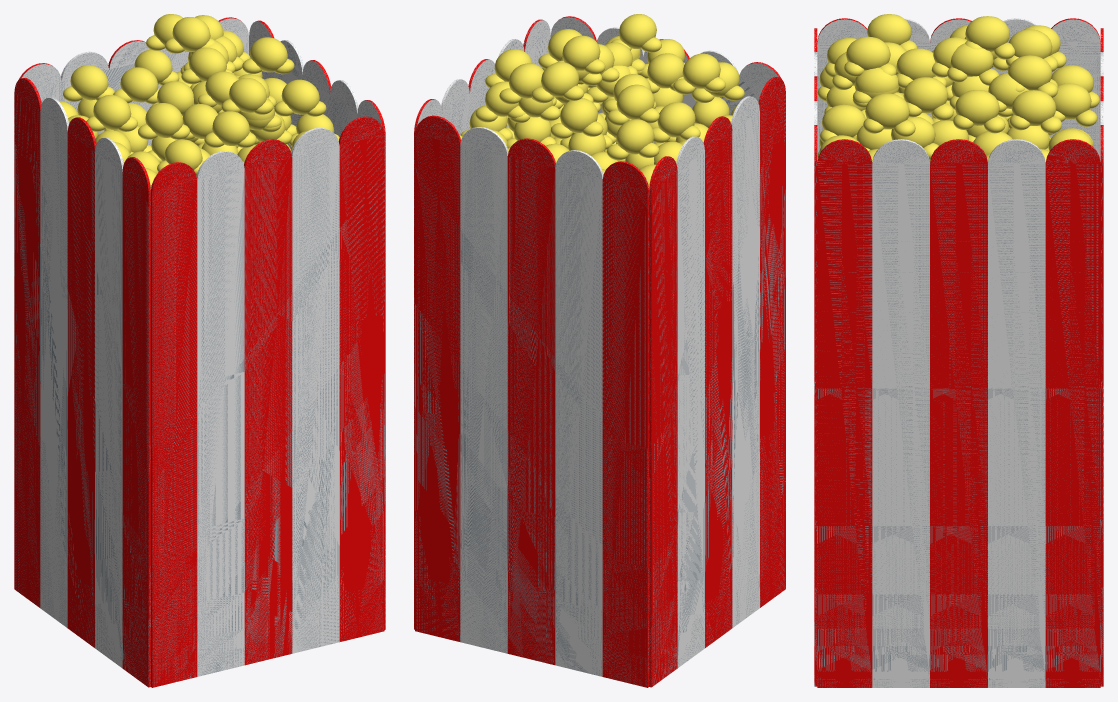
3 renders of one model, left to right at view 1: azimuth 30°, elevation 25°; view 2: azimuth 150°, elevation 25°; view 3: azimuth 270°, elevation 25°, orthographic. The views are drawn at different scales.
Visible parts, largest first — view 1: group_0 (×6), SimpleSphere02 (×15); view 2: group_0 (×6), SimpleSphere02 (×15); view 3: group_0 (×4), SimpleSphere02 (×25).
Boxes of the visible parts, left/top/right/bottom form: group_0 (×6): left=14, top=18, right=385, bottom=687; SimpleSphere02 (×15): left=70, top=17, right=319, bottom=169; group_0 (×6): left=414, top=17, right=785, bottom=687; SimpleSphere02 (×15): left=485, top=14, right=729, bottom=155; group_0 (×4): left=814, top=18, right=1103, bottom=687; SimpleSphere02 (×25): left=821, top=14, right=1093, bottom=155.
Bounding box in the file's own units: 12.01 × 12.01 × 28.03.
